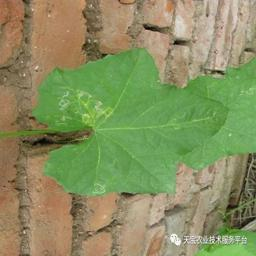liriomyza: (54, 88, 114, 128)
